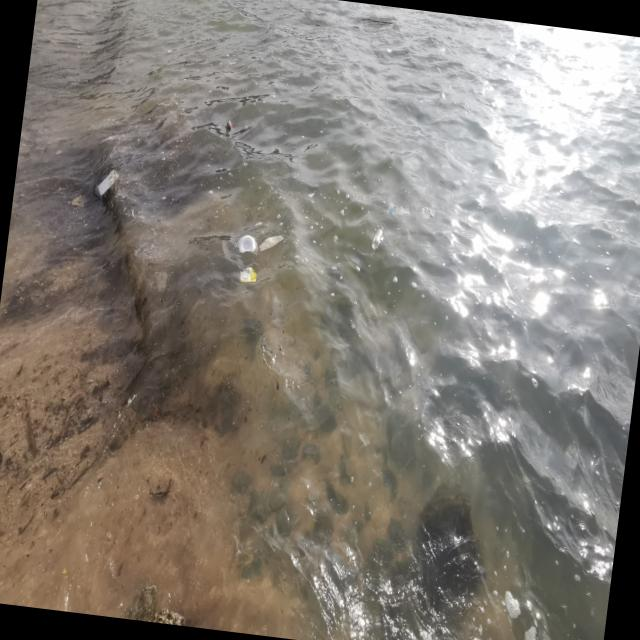foam: (95, 169, 121, 203), (235, 233, 260, 258)
plastic bottle: (372, 227, 386, 253)
